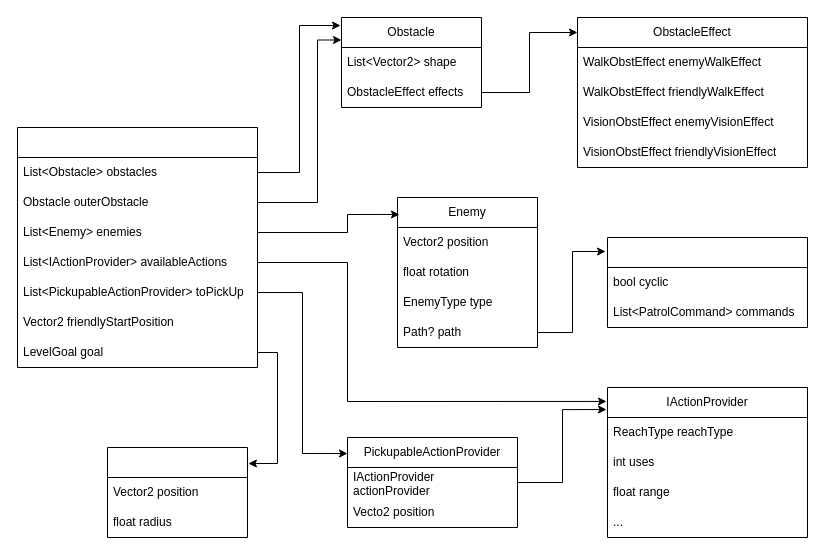
This 825x555 diagram has some shape labels left out. Each missing label, with the box of its shape:
Level Representation: (16, 126, 258, 368)
LevelGoal: (106, 446, 248, 538)
Path: (606, 236, 808, 328)
